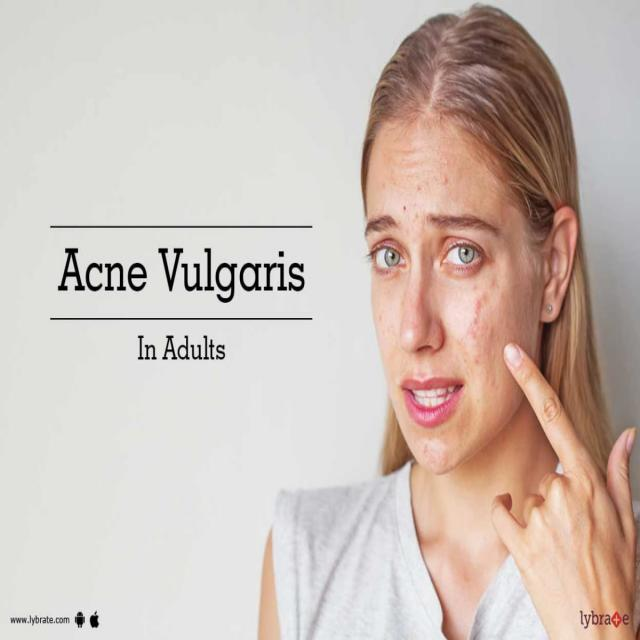acne: (456, 270, 509, 399), (398, 182, 426, 228), (438, 172, 449, 188)
